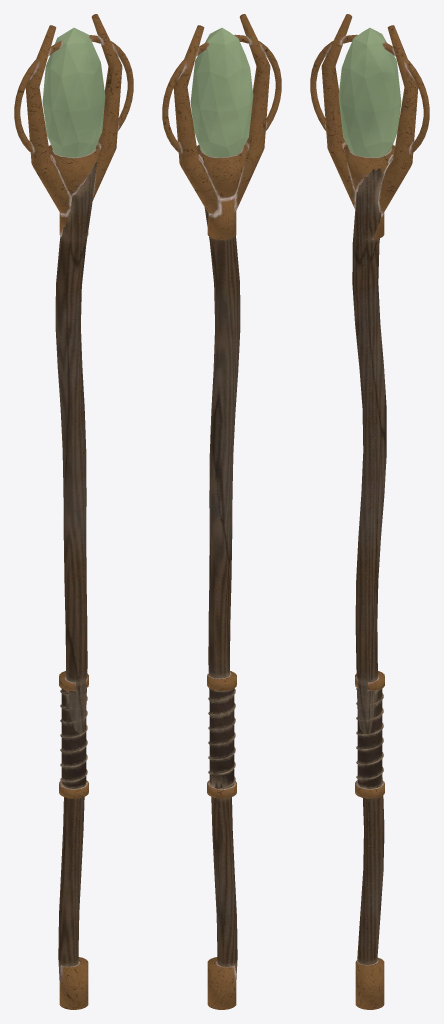
Rendered from eq_staff_4.glb.
3 views of the same model, side by side, from view 1: azimuth 30°, elevation 25°; view 2: azimuth 210°, elevation 25°; view 3: azimuth 330°, elevation 25° (orthographic).
Parts seen in each view (by area): view 1: eq_staff_4; view 2: eq_staff_4; view 3: eq_staff_4.
Part boxes in pixels (x1=…): eq_staff_4: x1=14, y1=14, x2=133, y2=1009; eq_staff_4: x1=162, y1=14, x2=281, y2=1009; eq_staff_4: x1=310, y1=14, x2=429, y2=1009.
Size of the model in its own units: 0.2733 by 2.15 by 0.1196.
Materials: 1 (1 with a texture image).
